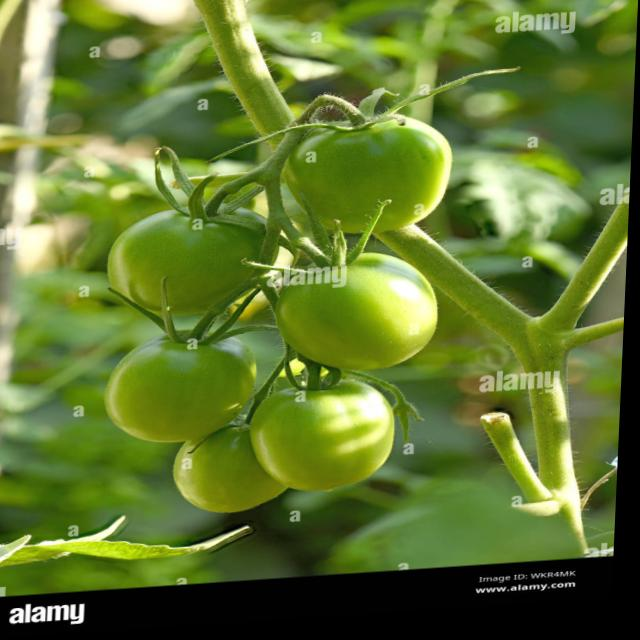yesil: (104, 69, 467, 532)
